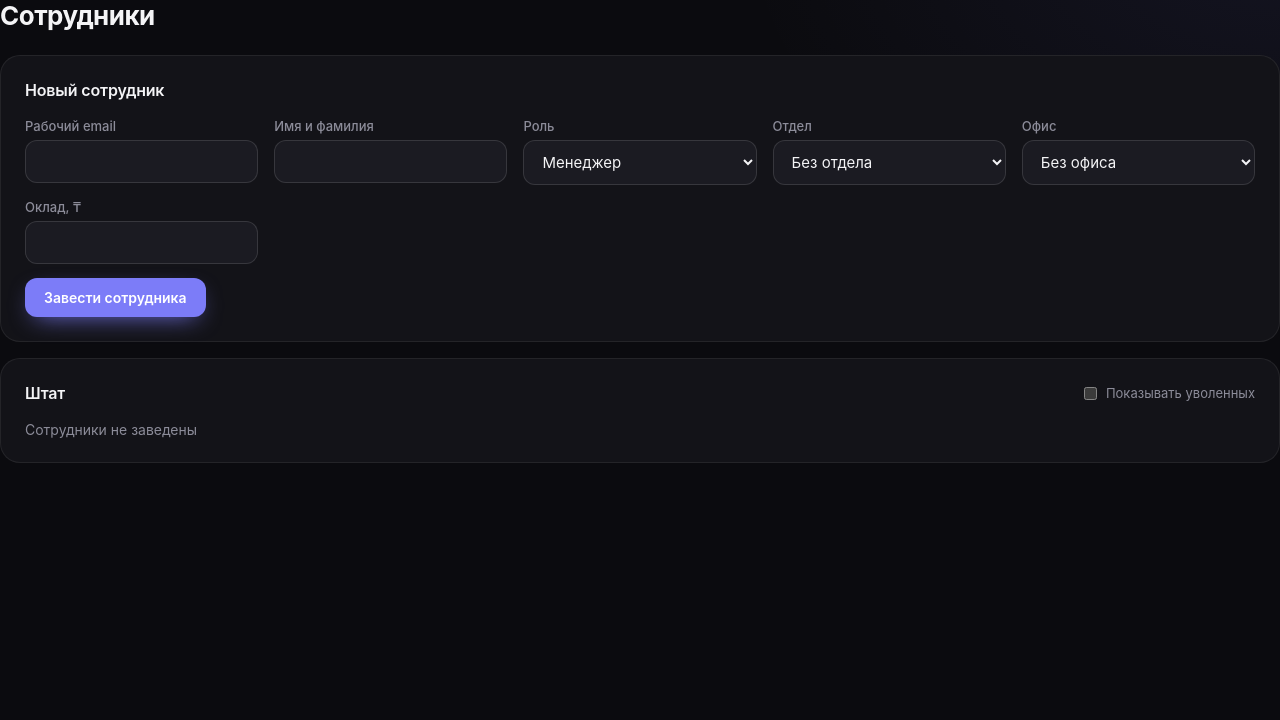
Test: заведение сотрудника: временный пароль › пароль можно скрыть с экрана
Expected: the heading "Новый сотрудник" is shown, [25,80,164,100]
Type "new@corpsol.kz" into the field labelled "Рабочий email" at (142, 162), box [25,140,258,183]
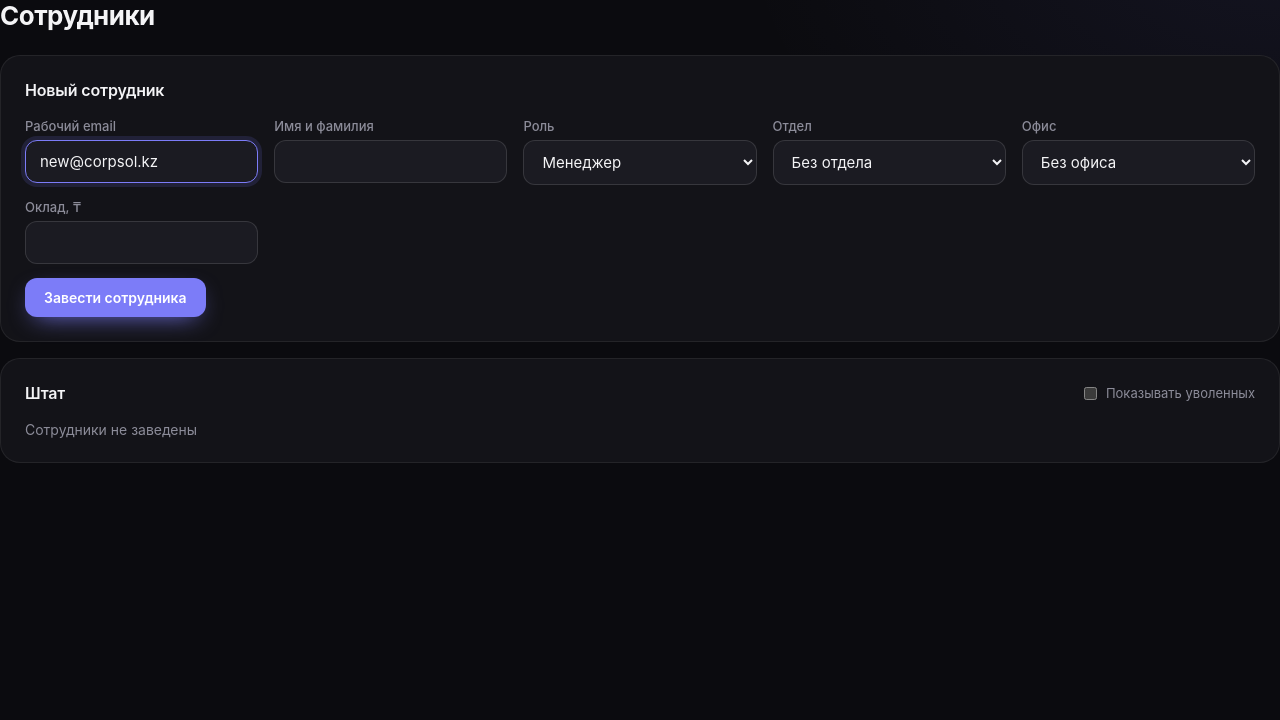
Type "Асель Ким" into the field labelled "Имя и фамилия" at (391, 162), box [274,140,507,183]
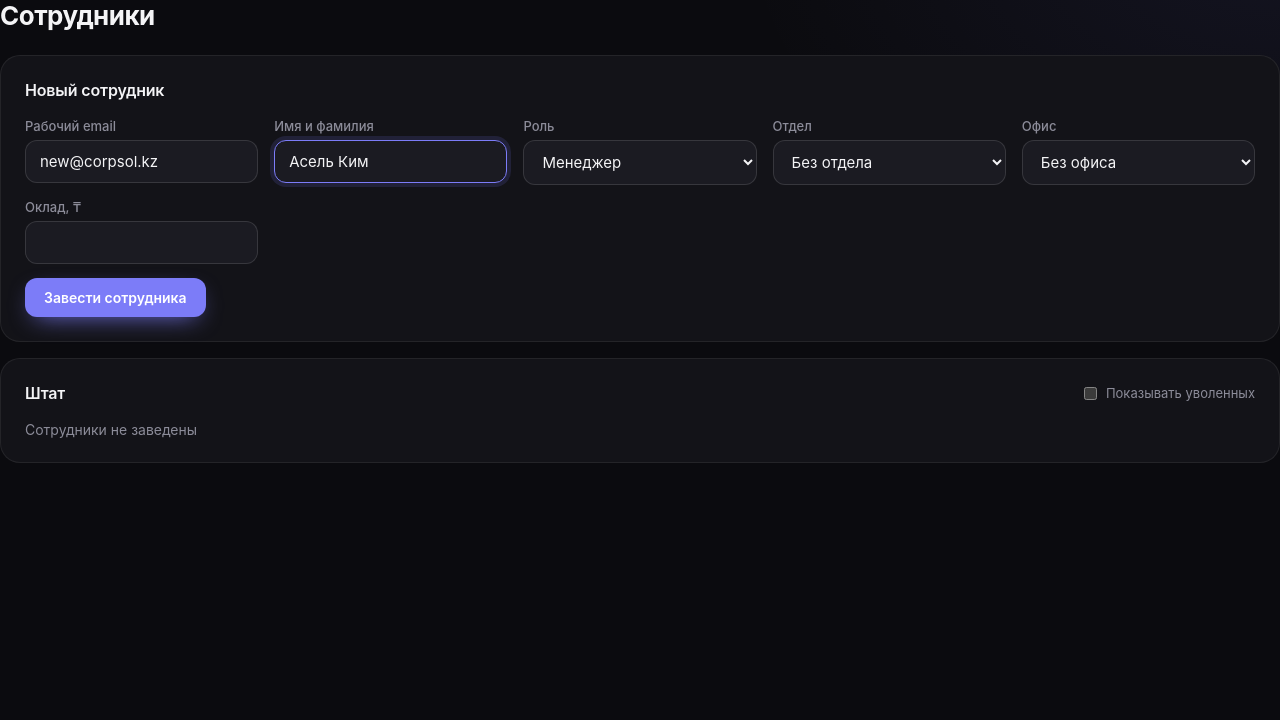
Type "300000" into the number field labelled "Оклад, ₸" at (142, 242), box [25,221,258,264]
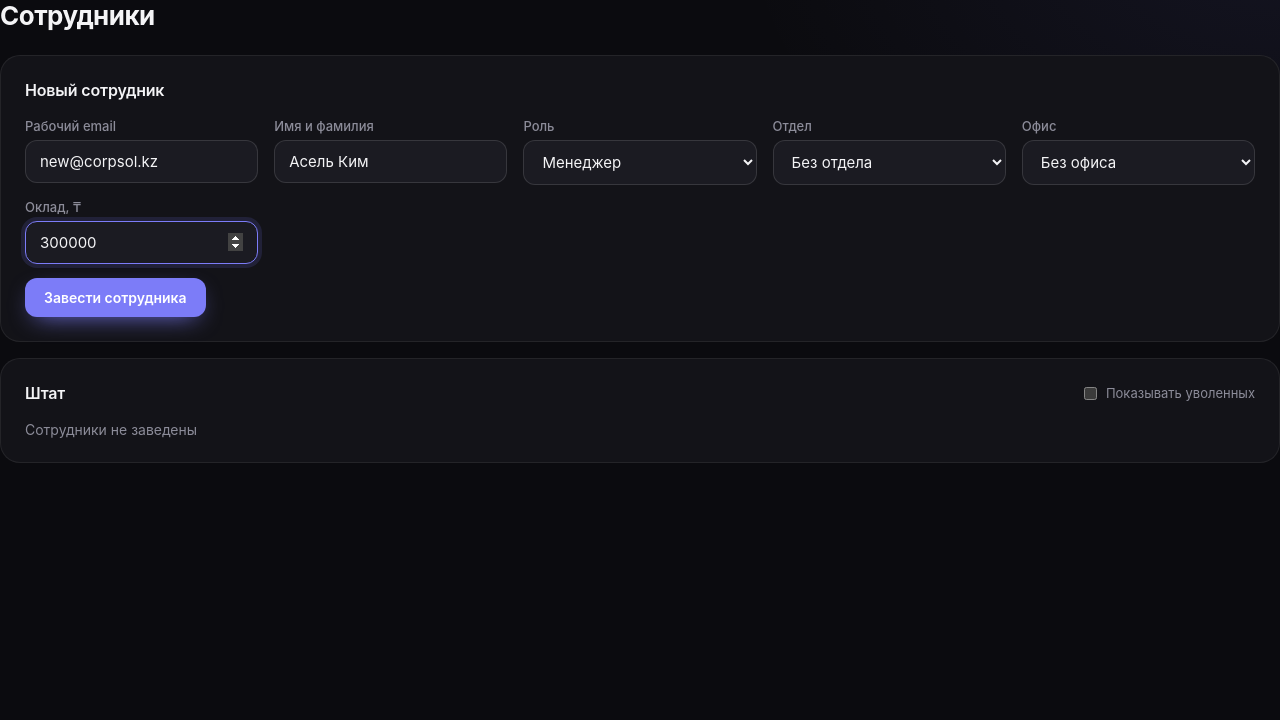
Click the button "Завести сотрудника" at (115, 298), box [25,278,206,317]
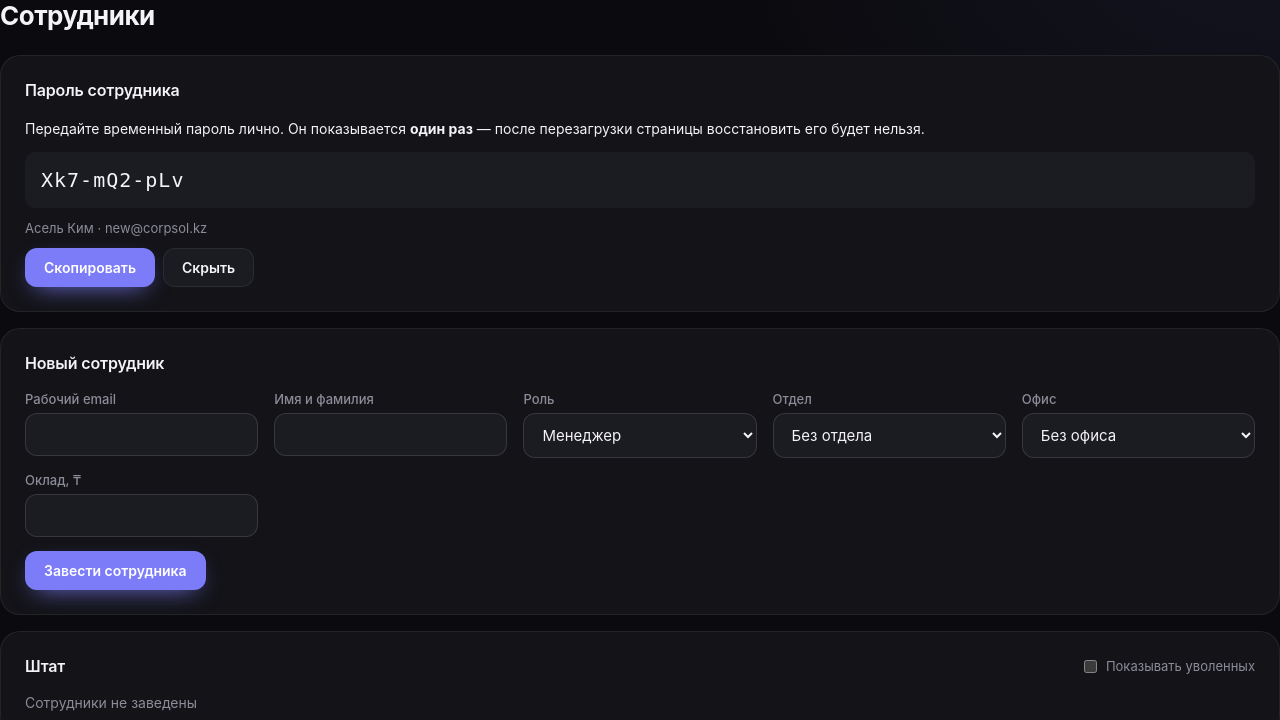
Expected: the text "Xk7-mQ2-pLv" is shown, [25,152,1255,208]
Click the button "Скрыть" at (209, 268), box [163,248,254,287]
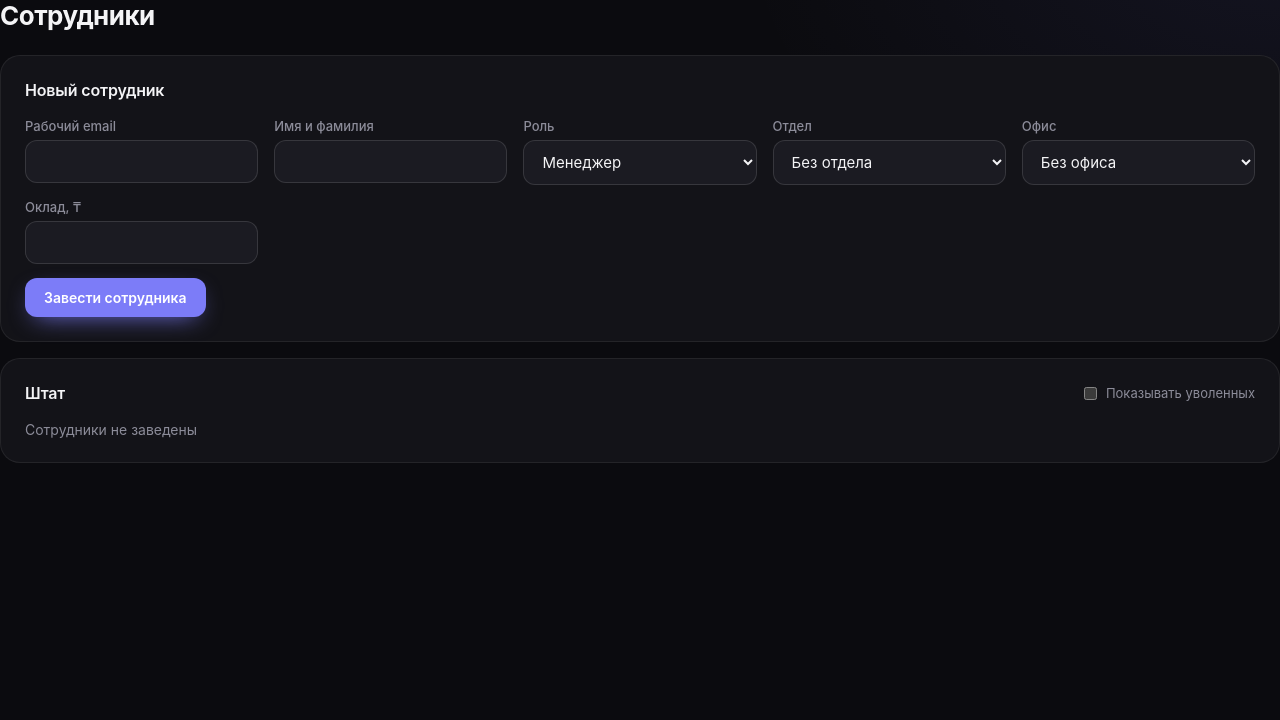
Expected: the text "Xk7-mQ2-pLv" is gone
